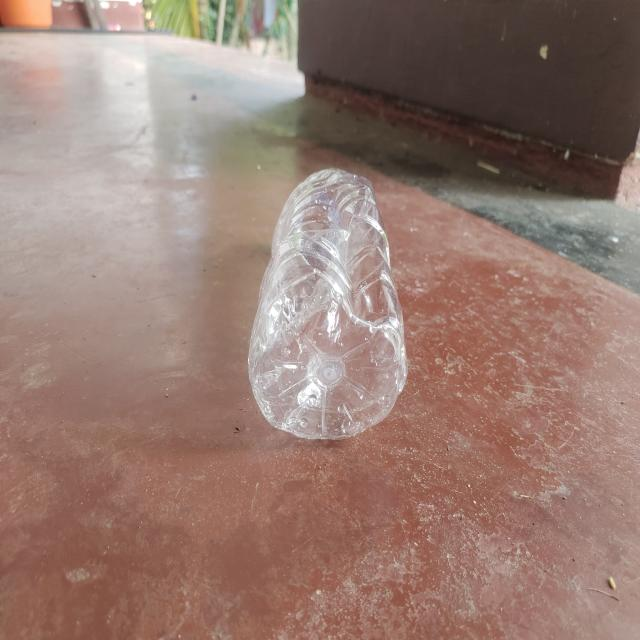plastic: (245, 164, 412, 443)
